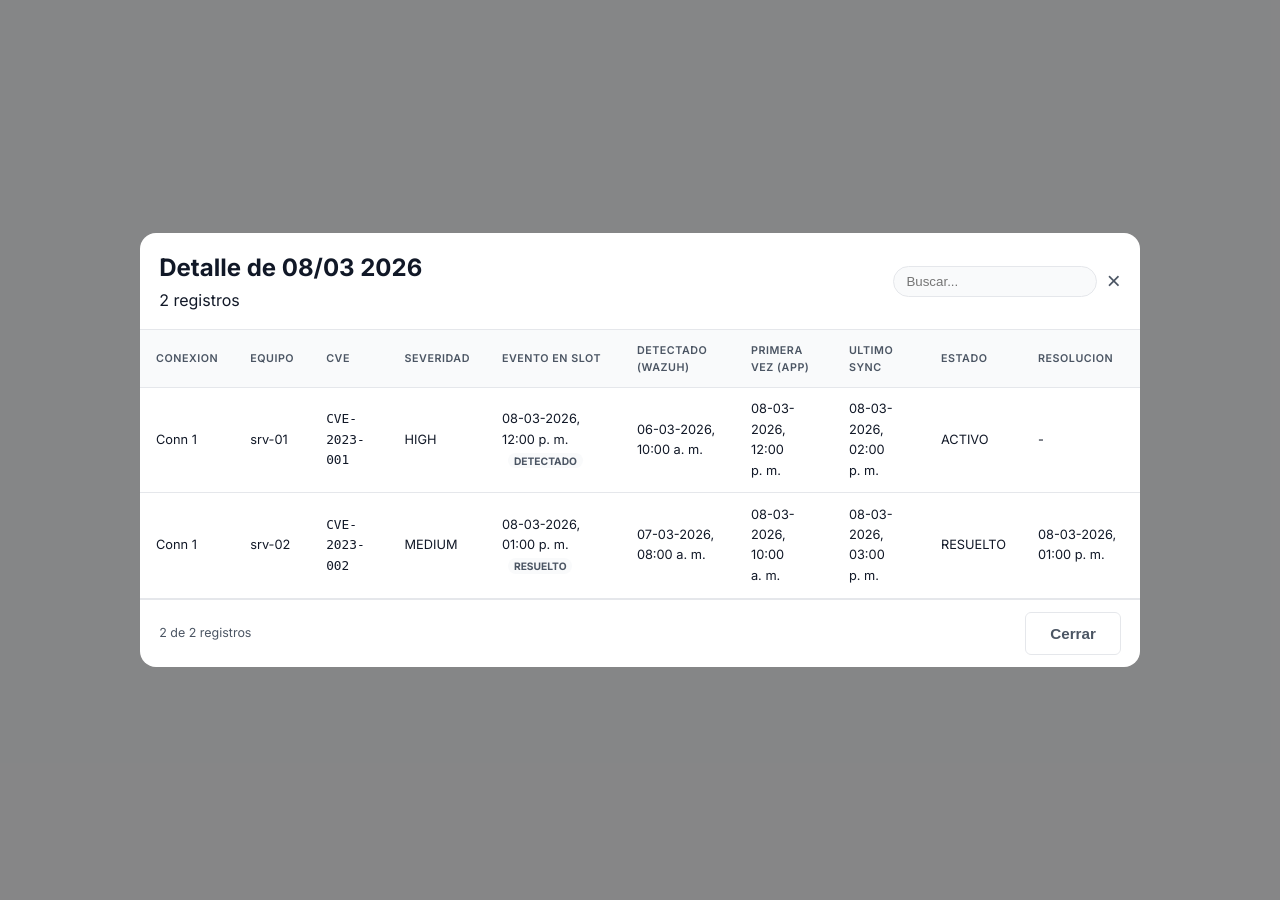
it: TimelineDetailModal.vue › filters records by search query
Type "srv-01" into the field with class "modal-search" at (995,281), box x1=893 y1=266 x2=1097 y2=297
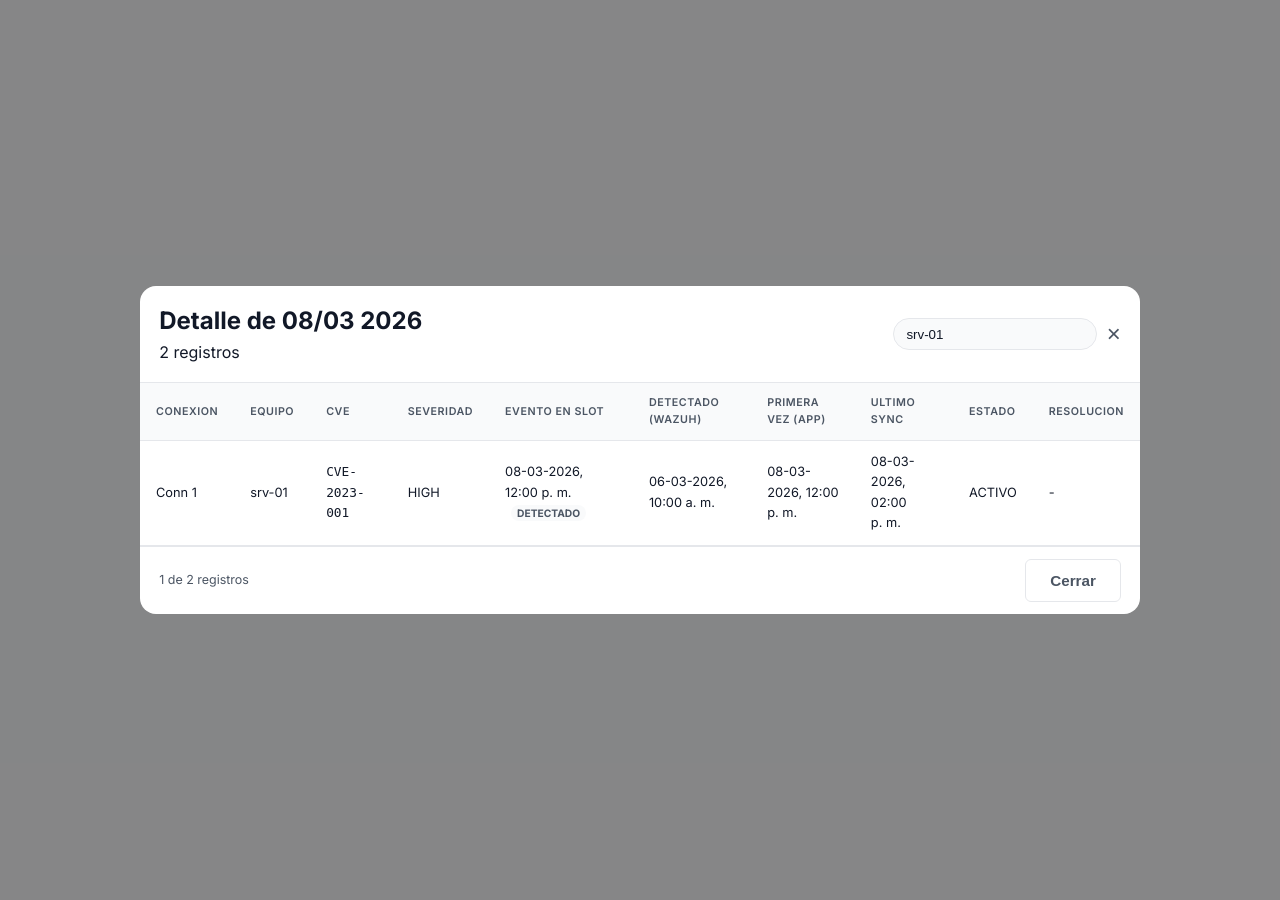
expect the text "srv-01" is shown: met, box x1=234 y1=440 x2=310 y2=546
expect the text "srv-02" is gone: met
